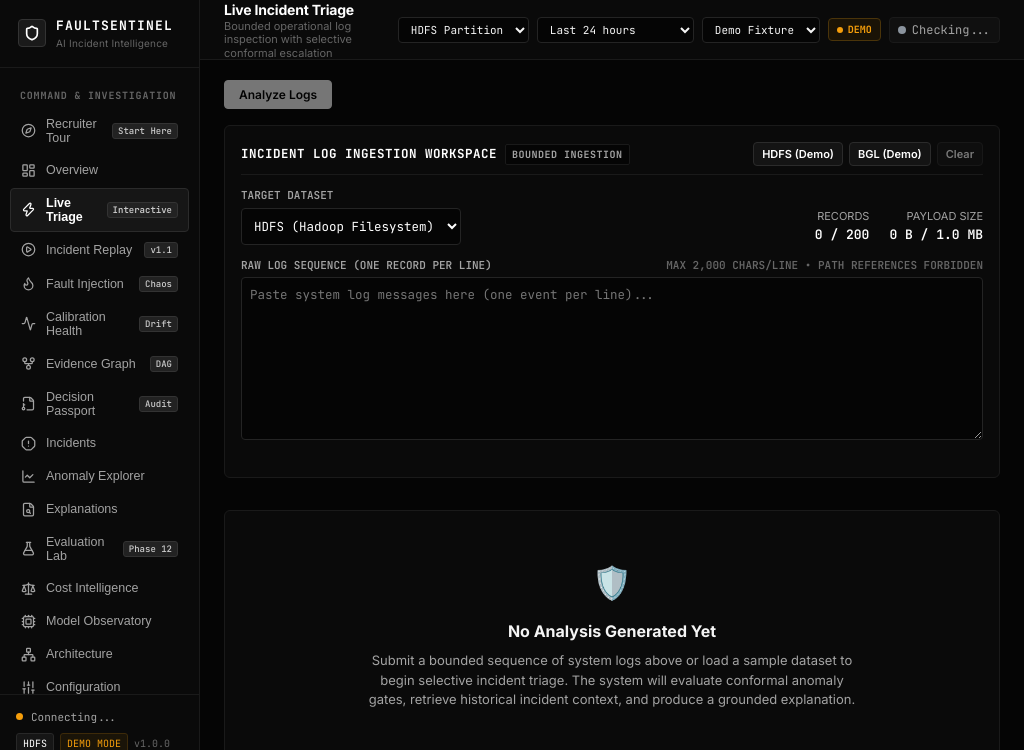
Test: FaultSentinel Operator Dashboard Integration Tests › handles backend 400/422 validation errors with request ID preserved
Type "some invalid log" into the text box with test id "logs-textarea" at (612, 358), box x1=241 y1=277 x2=983 y2=440
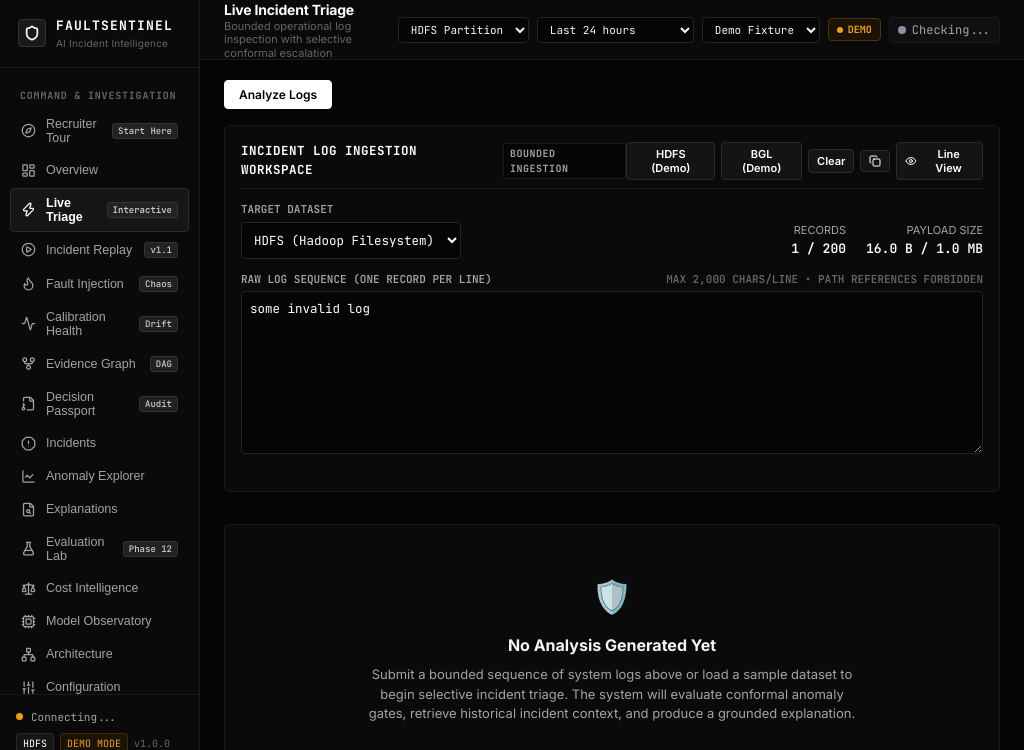
Click the button with test id "analyze-btn" at (278, 94), box x1=224 y1=80 x2=332 y2=109
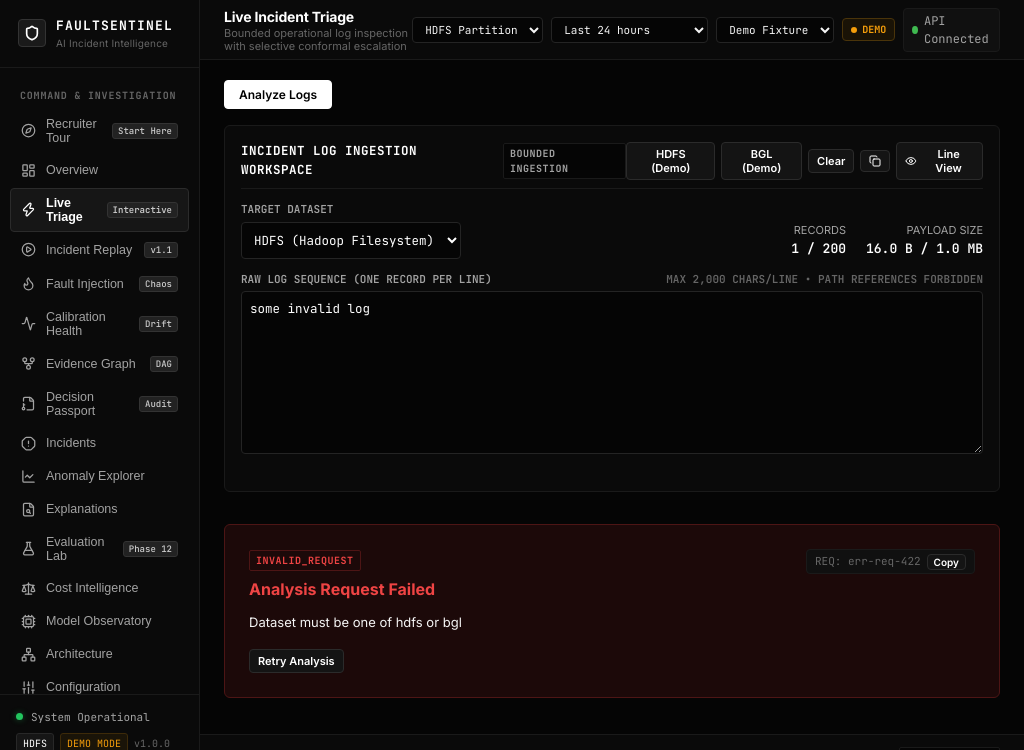
Result: the message with test id "error-state" is shown at x1=224 y1=524 x2=1000 y2=698
Result: the text "Dataset must be one of hdfs or bgl" is shown at x1=249 y1=614 x2=462 y2=630
Result: the text "INVALID_REQUEST" is shown at x1=249 y1=550 x2=360 y2=571
